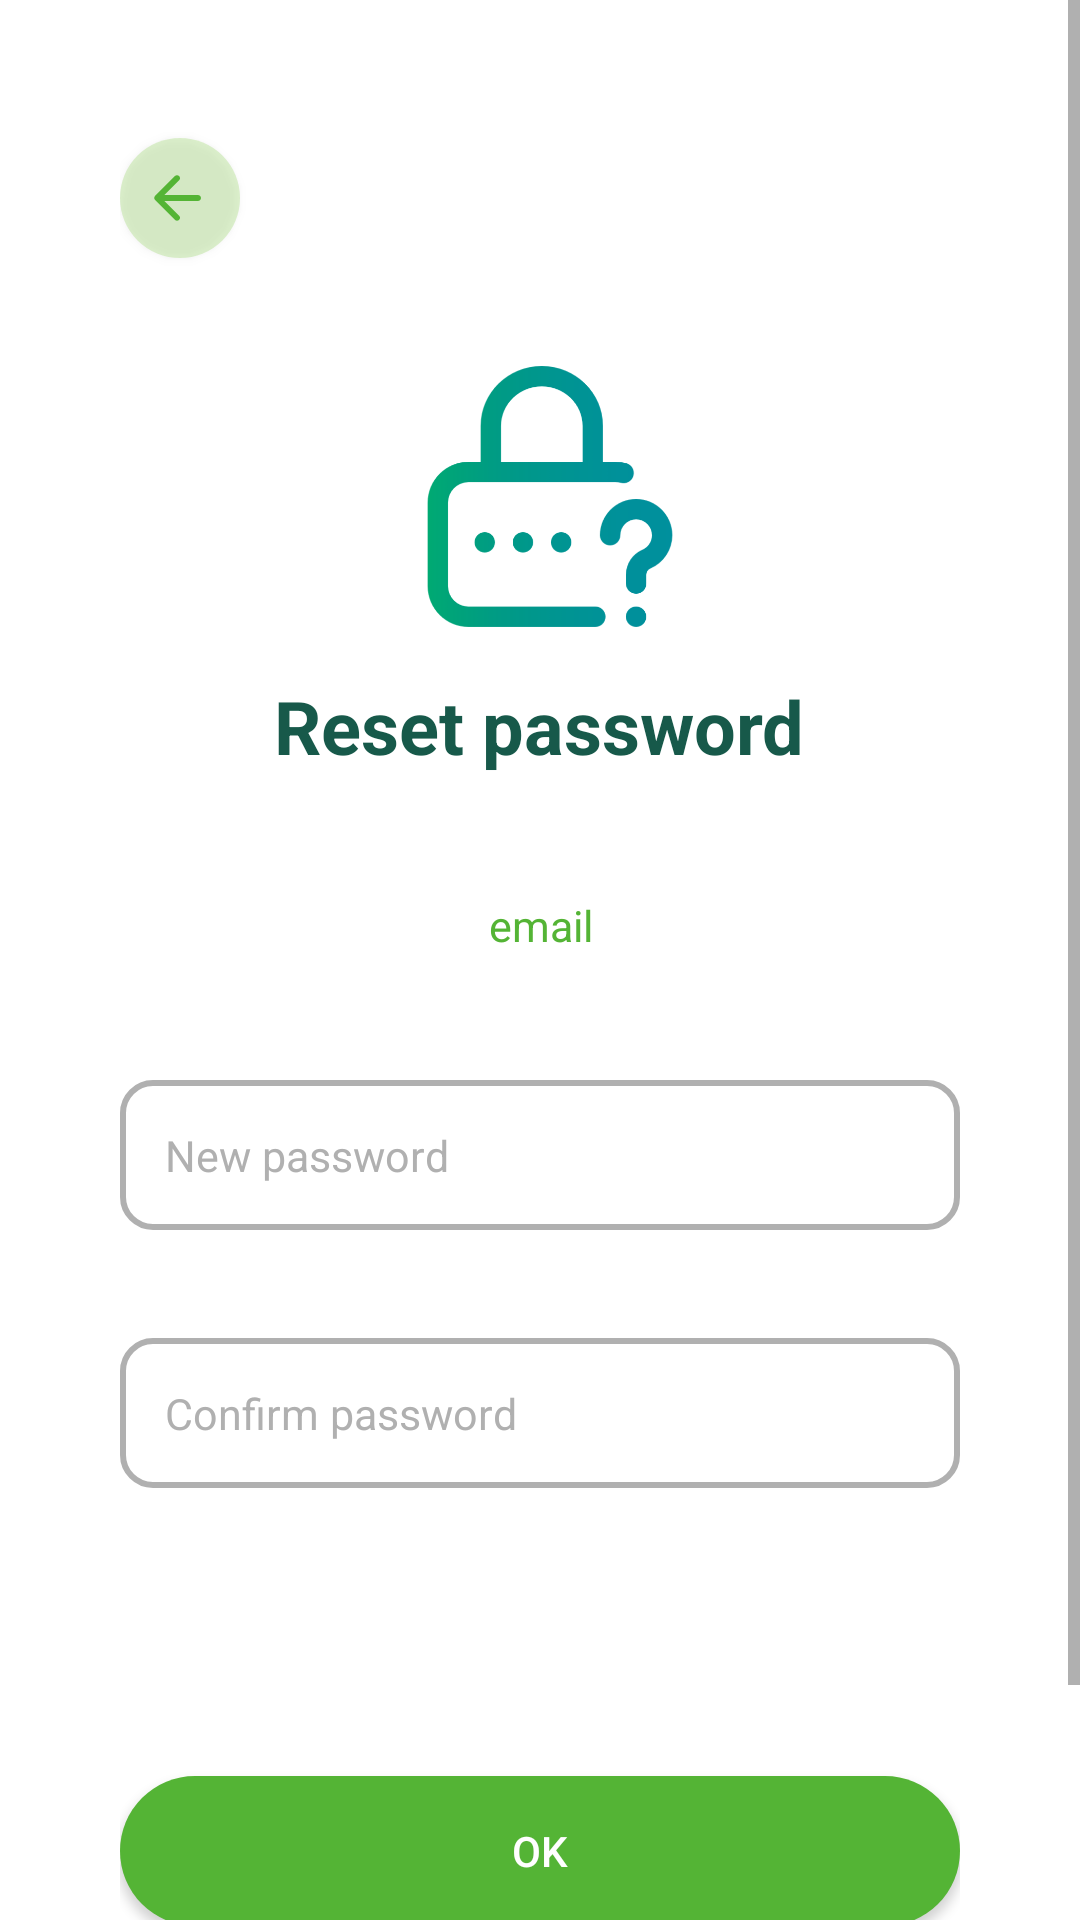

Icon click points for this 1080 x 1920 phone screenshot, format point (x, y):
forgot: point (550, 496)
